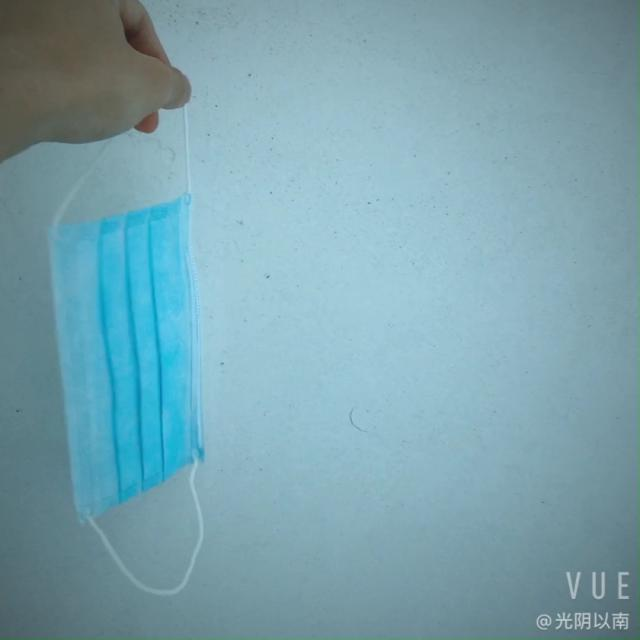non-organic waste: (52, 197, 203, 528)
